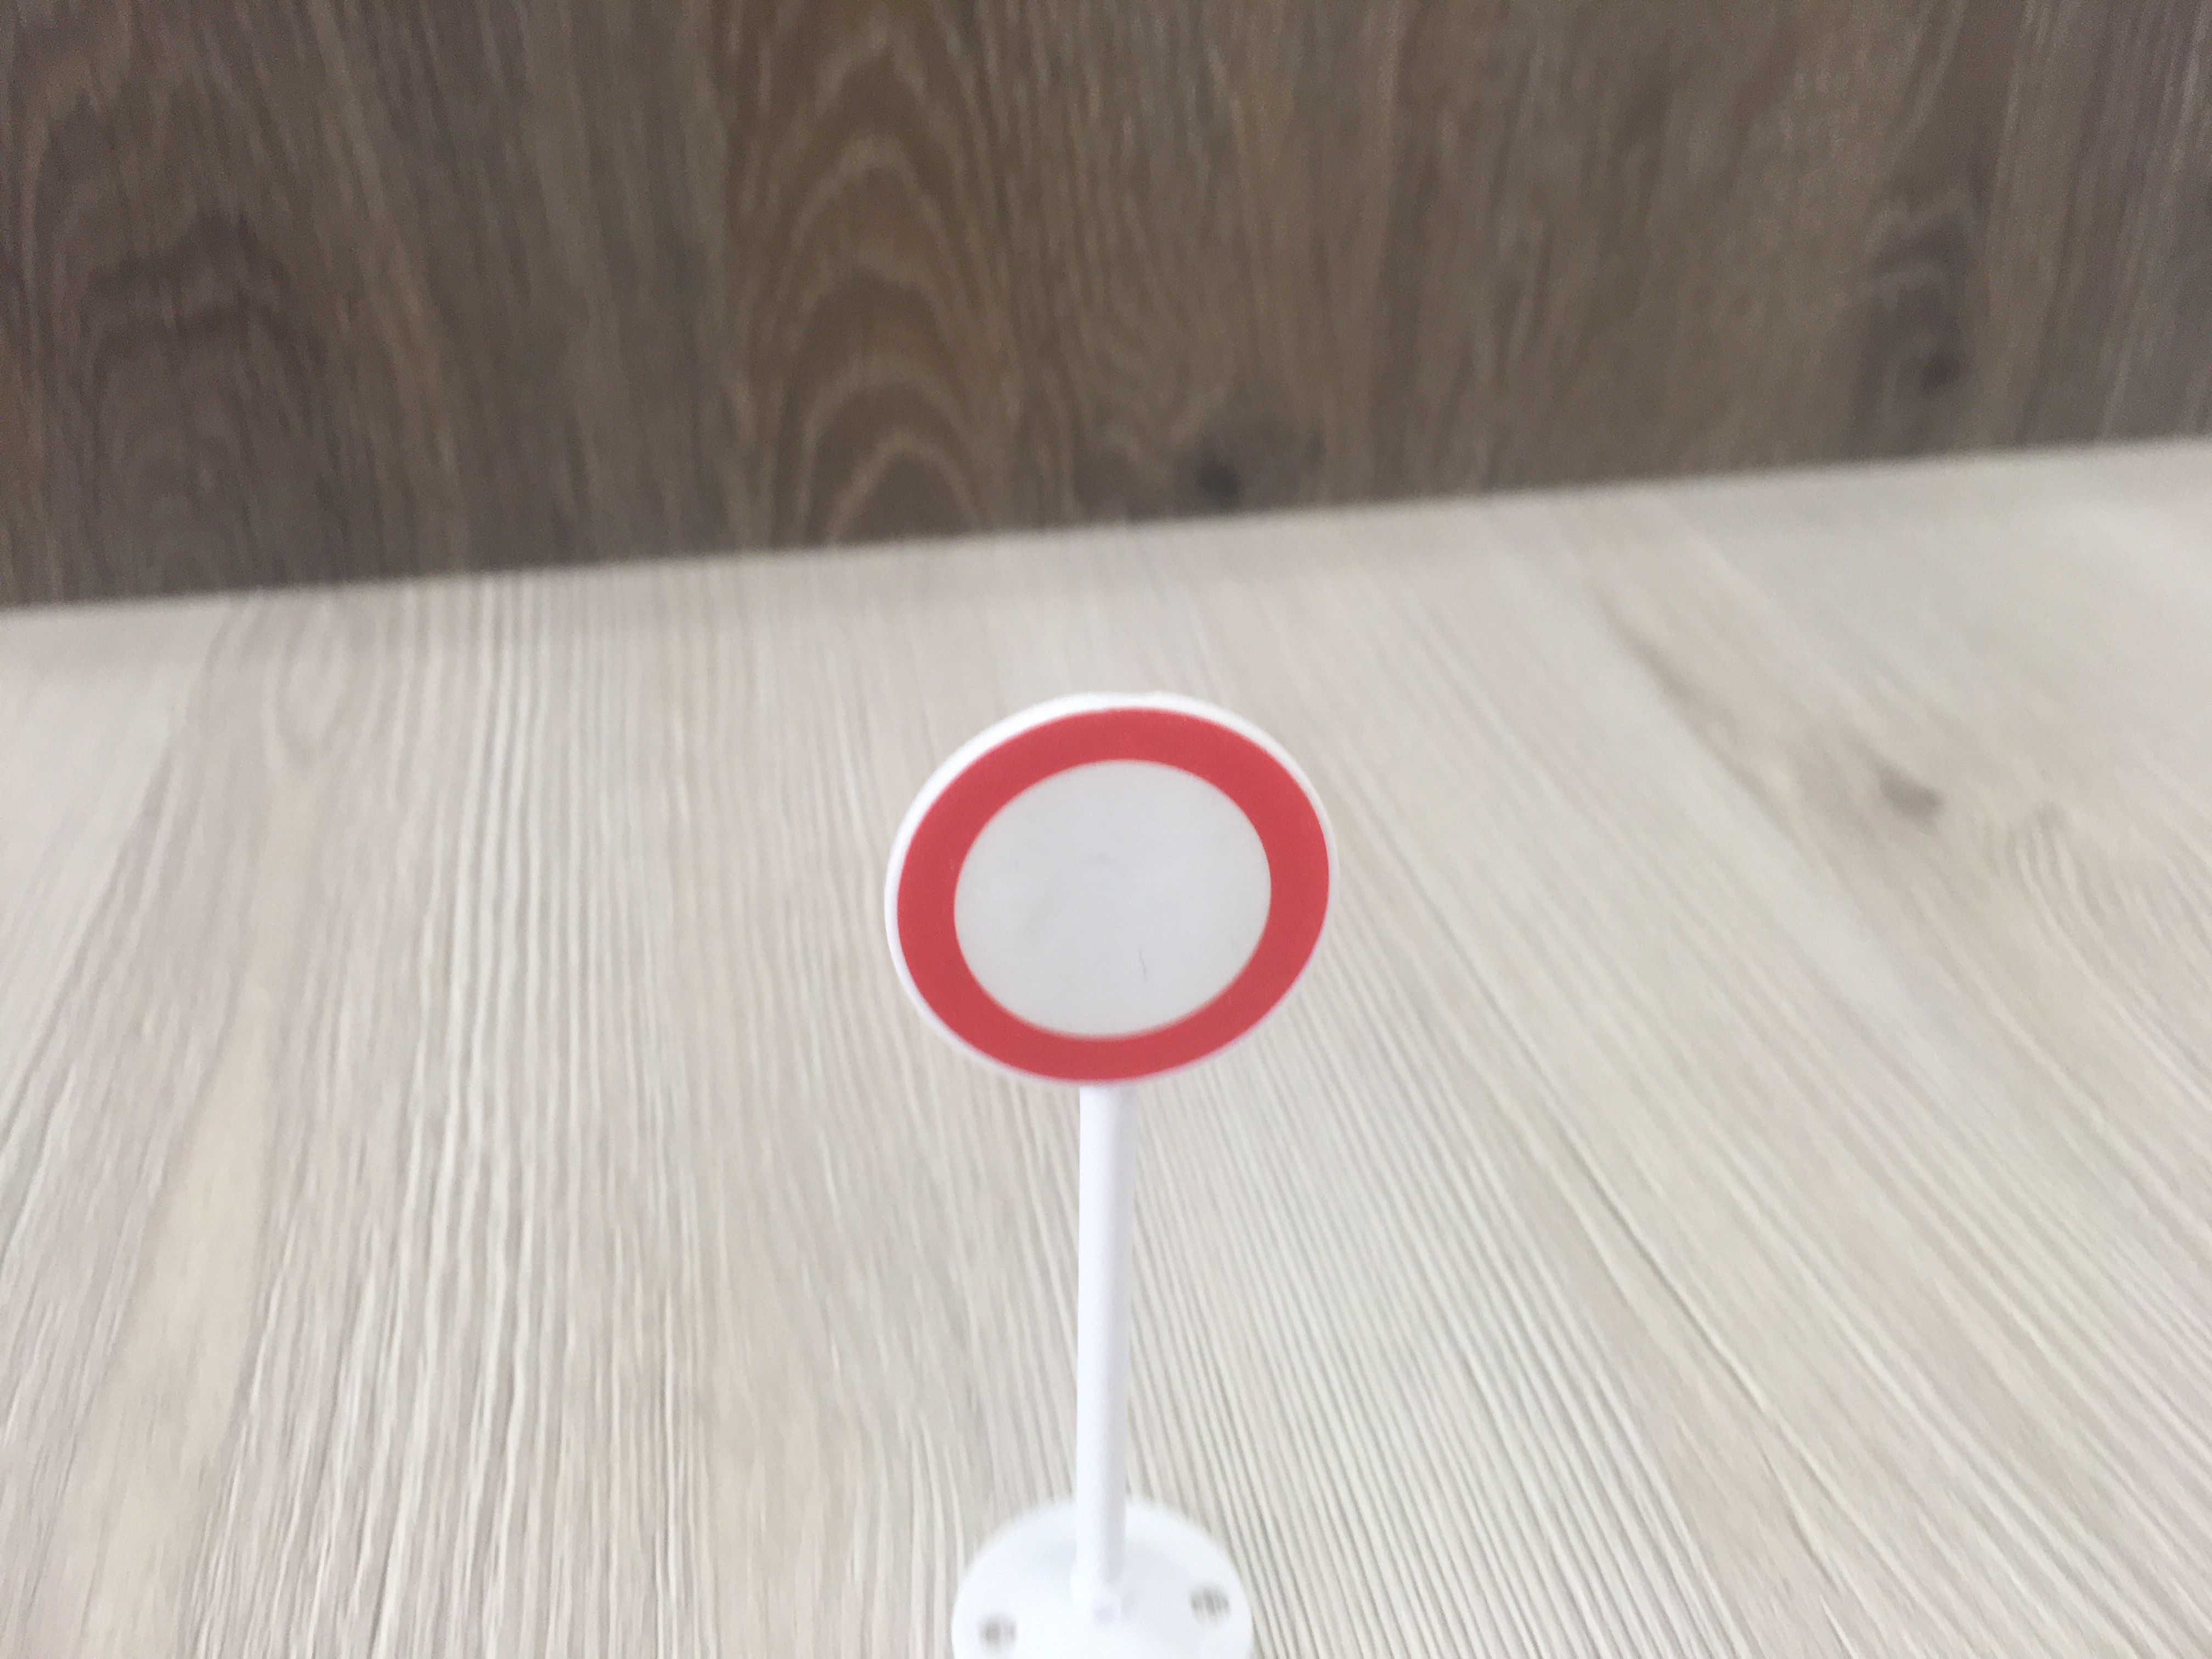noDrive: (878, 697, 1339, 1098)
